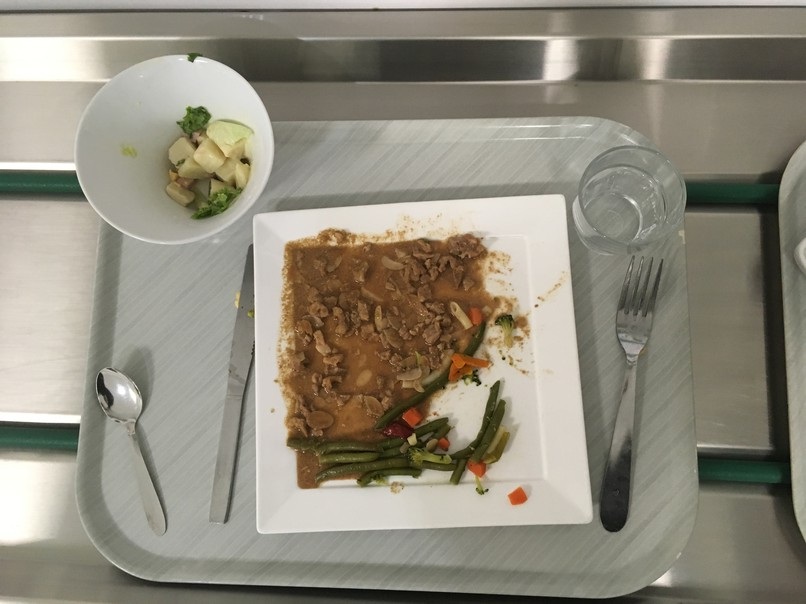cup: (569, 139, 688, 256)
cutlery: (599, 250, 669, 531), (82, 362, 181, 544), (209, 241, 254, 521)
orga: (290, 239, 466, 347), (162, 111, 255, 209), (315, 440, 496, 486), (286, 358, 377, 435), (396, 405, 513, 436)
